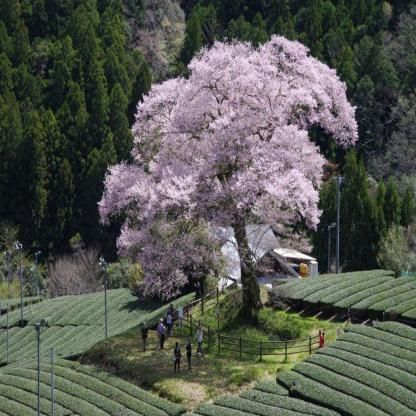Someiyoshino: (99, 38, 356, 300)
